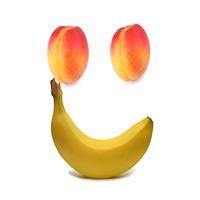banane: (44, 77, 165, 185)
